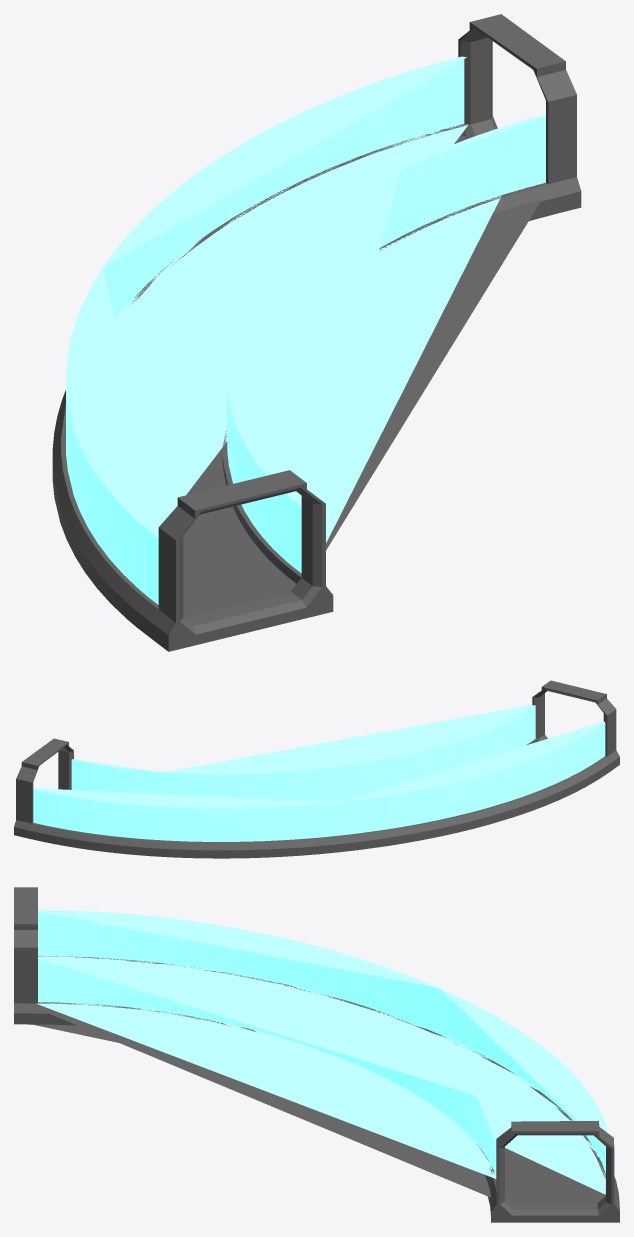
File: bend-large.fbx
3 renders of one model, top to bottom at view 1: azimuth 30°, elevation 25°; view 2: azimuth 150°, elevation 25°; view 3: azimuth 270°, elevation 25°, orthographic. The views are drawn at different scales.
Parts seen in each view (by area): view 1: RoadBendRight; view 2: RoadBendRight; view 3: RoadBendRight.
Part boxes in pixels (bbox=[...]): RoadBendRight: bbox=[52, 14, 581, 651]; RoadBendRight: bbox=[14, 680, 619, 858]; RoadBendRight: bbox=[14, 887, 619, 1222].
Size of the model in its own units: 98.28 by 16.58 by 99.54.
